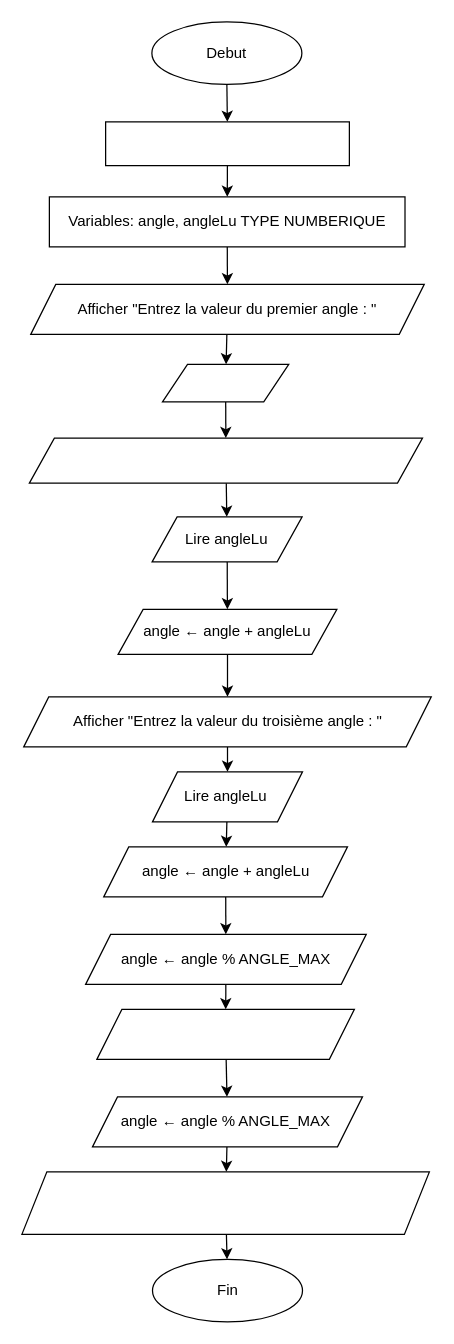
Image size: 454x1344. Some labels were removed from this diagram. Here are the shapes that lost their labels. From the top down, the centre of each, then its label:
(x=226, y=143): Constantes: ANGLE_MAX = 360
(x=225, y=382): Lire angle
(x=225, y=460): Afficher "Entrez la valeur du deuxième angle : "
(x=225, y=1033): angle ← angle + ANGLE_MAX
(x=225, y=1202): Afficher "L’angle total normalisé est de : ", angle
